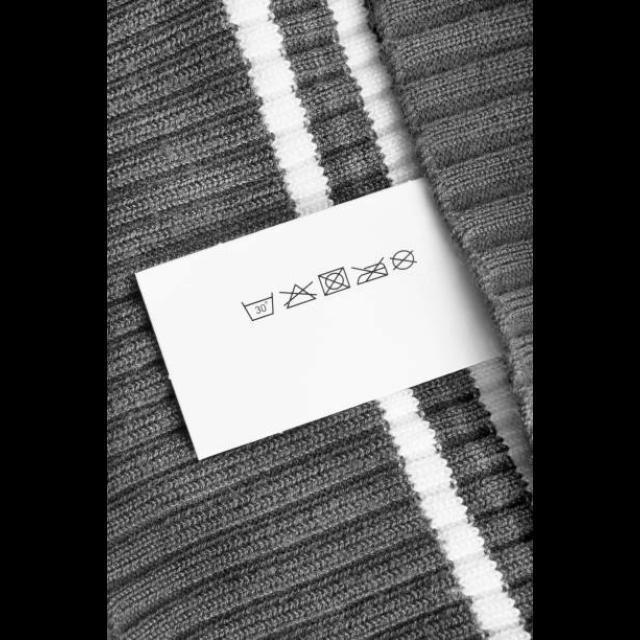30C: (238, 289, 276, 323)
DN_bleach: (278, 280, 320, 310)
DN_dry_clean: (390, 248, 420, 272)
DN_iron: (350, 256, 392, 286)
DN_tumble_dry: (316, 265, 352, 297)
